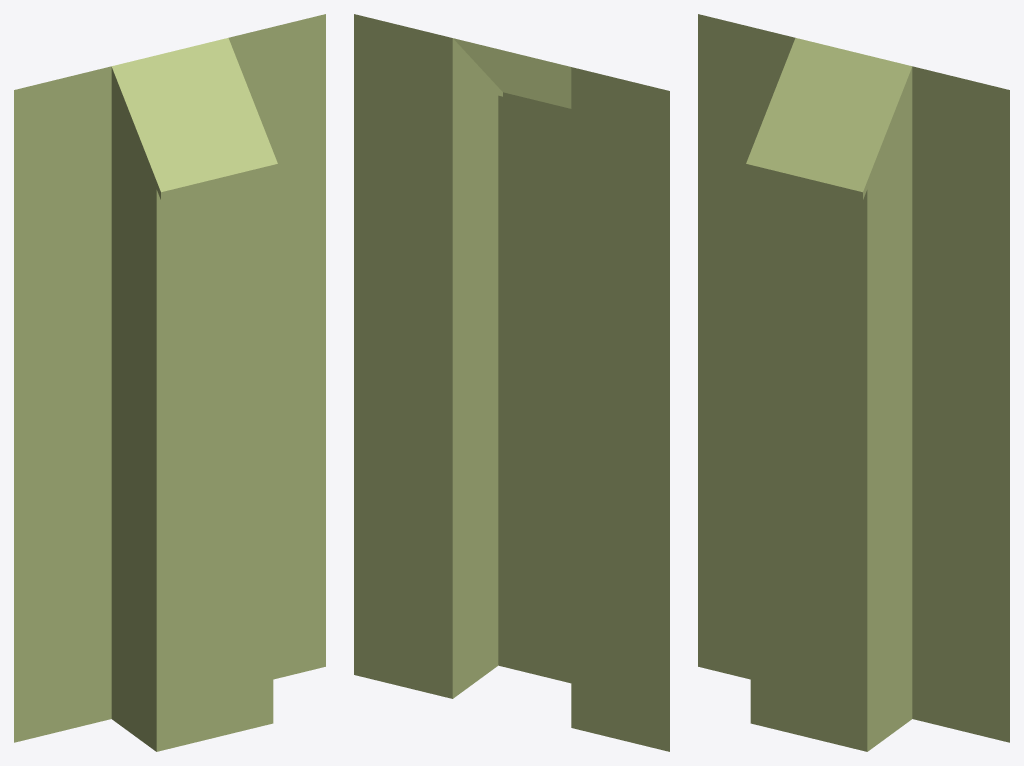
File: Historic_Beam_Upper_2.0x4.0.obj
3 views of the same model, side by side, from view 1: azimuth 30°, elevation 25°; view 2: azimuth 150°, elevation 25°; view 3: azimuth 330°, elevation 25° (orthographic).
Visible parts, largest first — view 1: Historic_Beam_Upper_2.0x4.0; view 2: Historic_Beam_Upper_2.0x4.0; view 3: Historic_Beam_Upper_2.0x4.0.
Boxes of the visible parts, x1,y1,x2,y2 form: Historic_Beam_Upper_2.0x4.0: [14, 14, 325, 751]; Historic_Beam_Upper_2.0x4.0: [354, 14, 669, 751]; Historic_Beam_Upper_2.0x4.0: [698, 14, 1009, 751].
Bounding box in the file's own units: 2 × 4 × 0.55.
